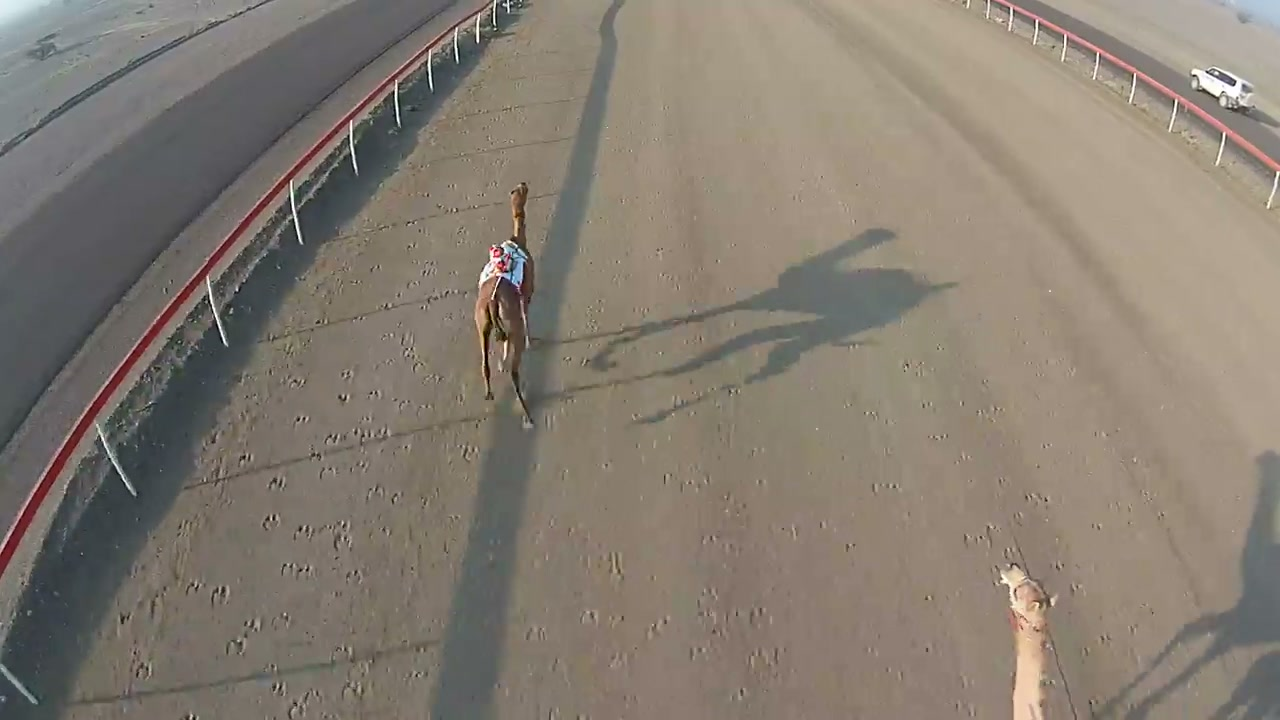animal_foot_print: (184, 238, 411, 715)
